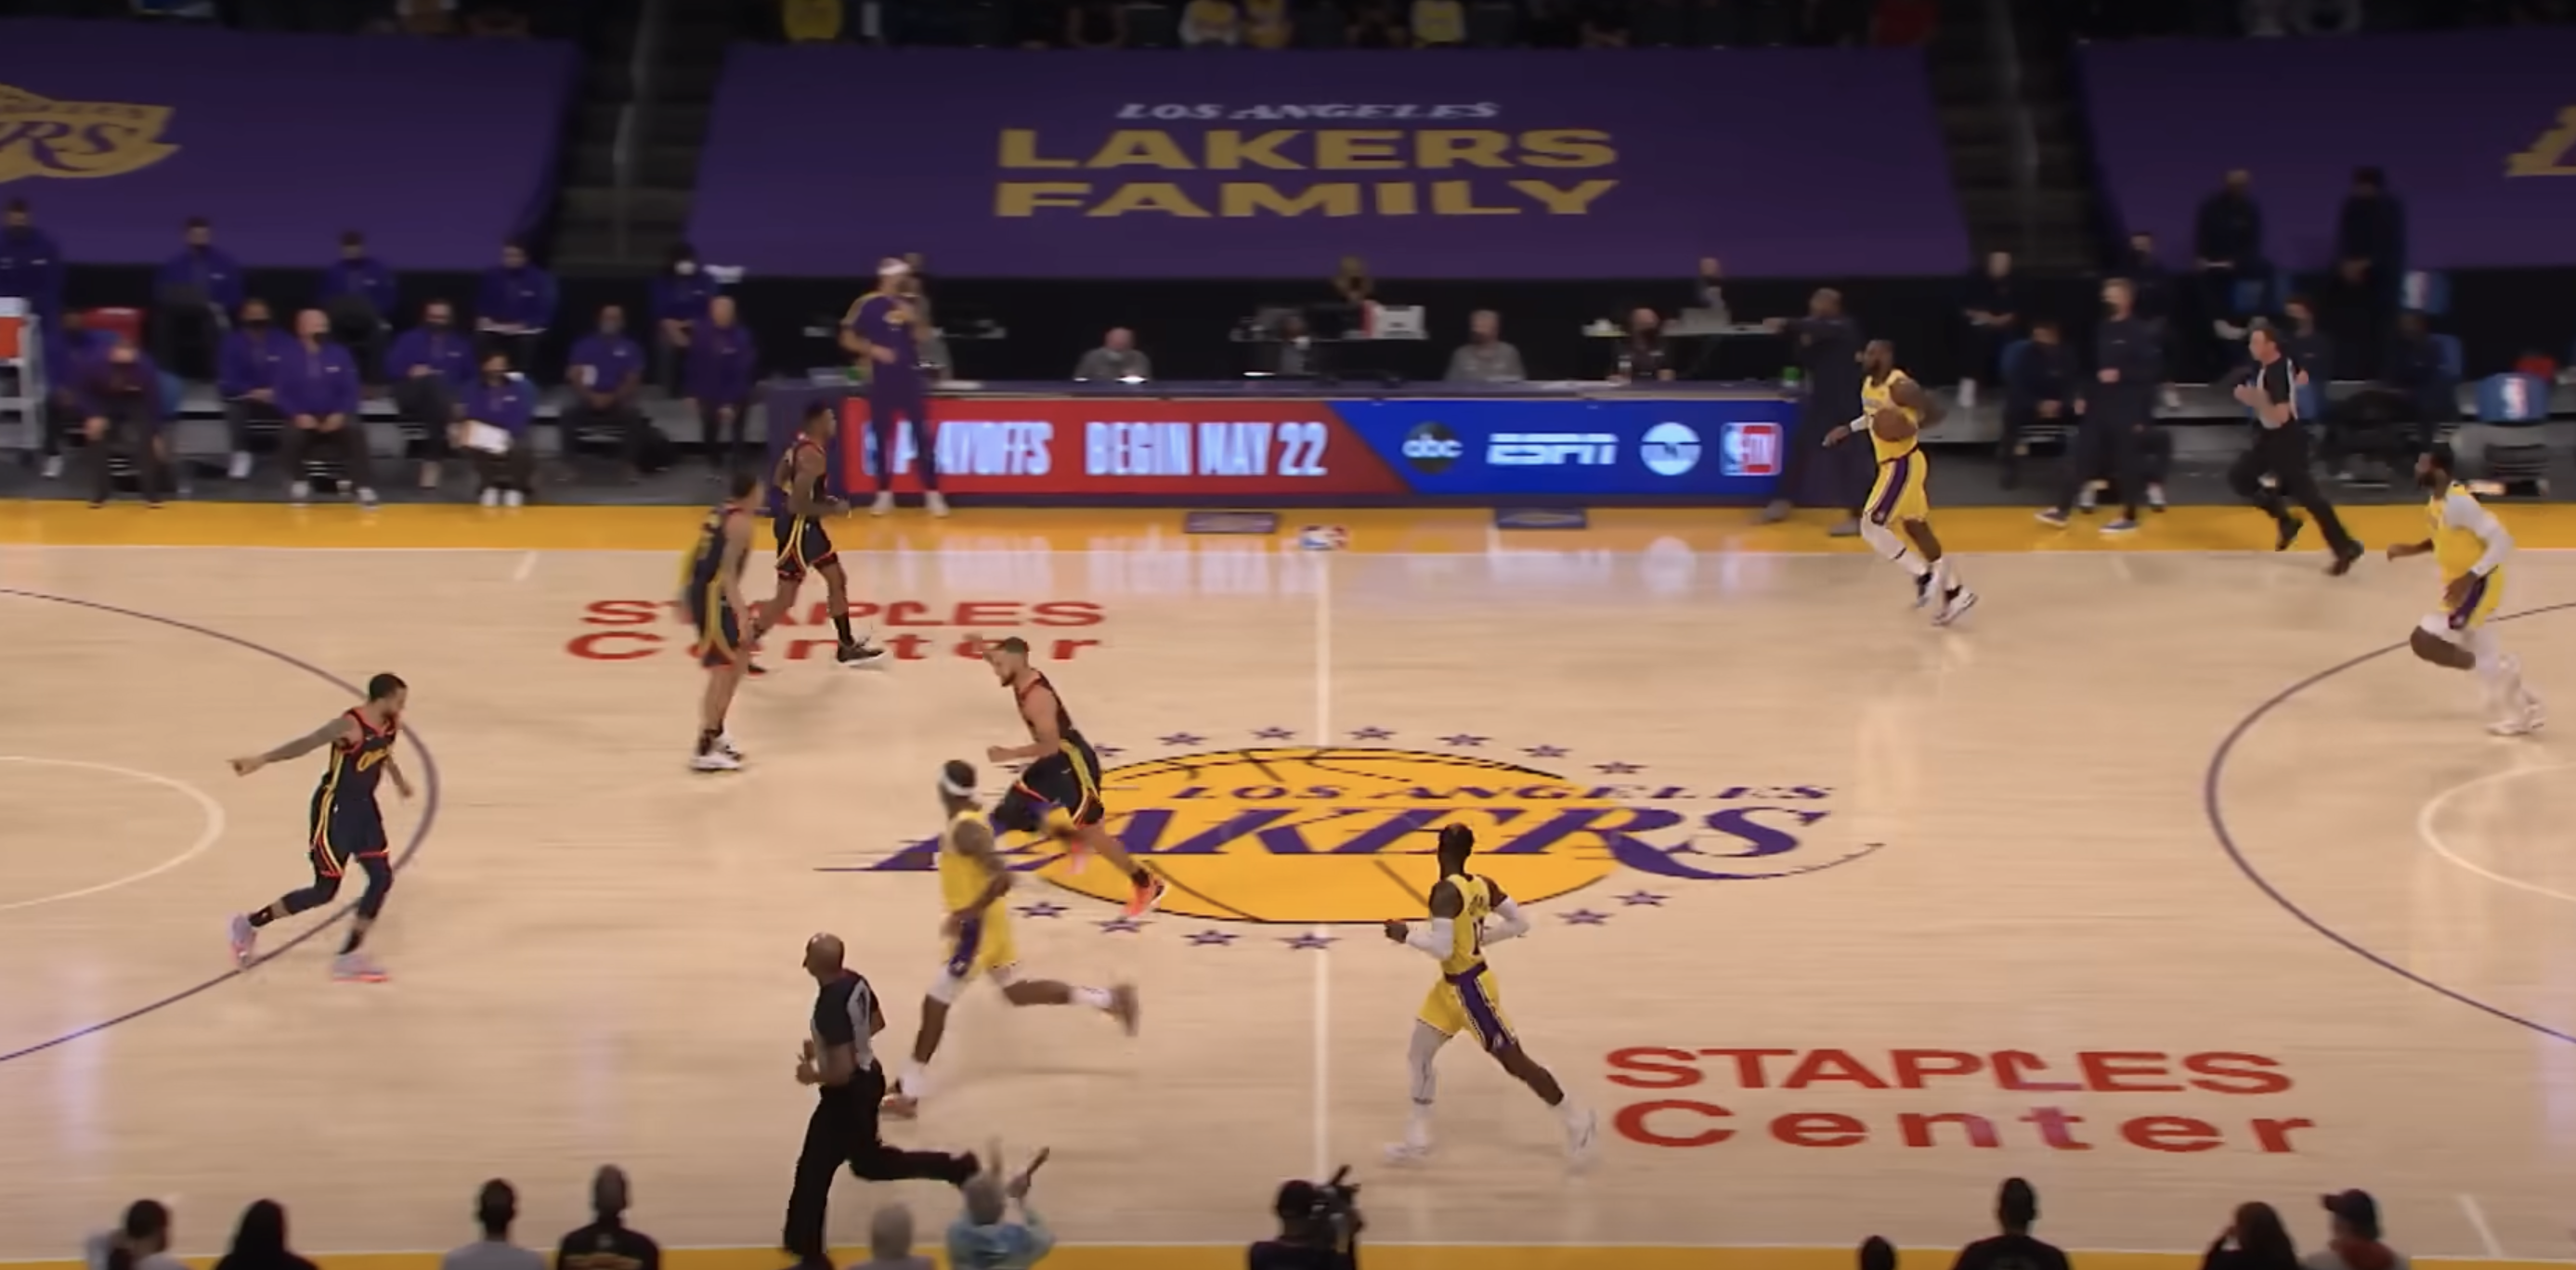ball: (1873, 407, 1909, 444)
